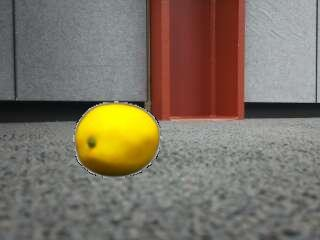lemon: (75, 107, 158, 178)
